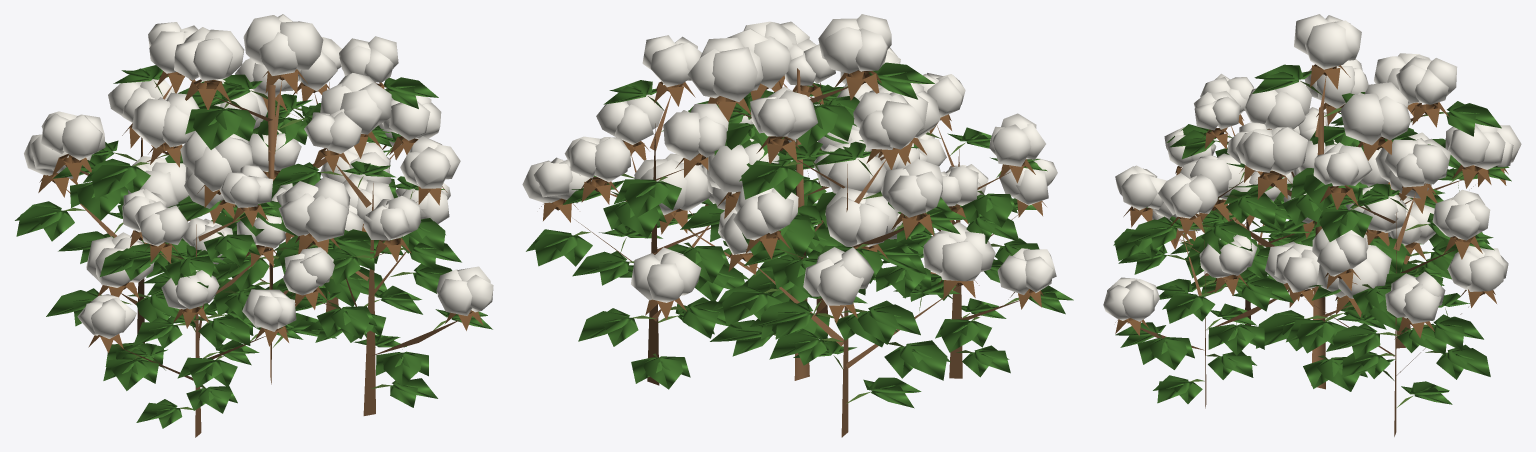
The model's file is wild_cotton.glb.
The picture shows the model from 3 angles, left to right: view 1: azimuth 30°, elevation 25°; view 2: azimuth 150°, elevation 25°; view 3: azimuth 270°, elevation 25°; orthographic projection. The views are drawn at different scales.
Visible parts, largest first — view 1: WildCotton; view 2: WildCotton; view 3: WildCotton.
Boxes of the visible parts, box(x1,y1,x2,y2) form: WildCotton: box(15, 14, 493, 437); WildCotton: box(522, 14, 1073, 437); WildCotton: box(1103, 14, 1521, 436).
Size of the model in its own units: 0.8619 by 0.7001 by 0.7737.
